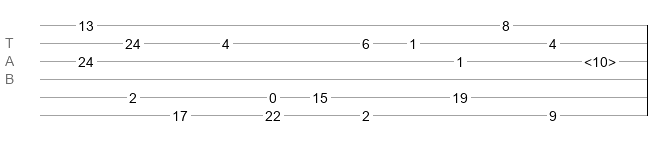0: (269, 90, 277, 100)
1: (409, 36, 417, 46), (456, 54, 464, 64)
13: (78, 18, 94, 28)
15: (312, 90, 328, 100)
17: (172, 108, 188, 118)
19: (452, 90, 468, 100)
2: (129, 90, 137, 100), (362, 108, 370, 118)
22: (265, 108, 281, 118)
24: (78, 54, 94, 64), (125, 36, 141, 46)
4: (222, 36, 230, 46), (549, 36, 557, 46)
6: (362, 36, 370, 46)
8: (502, 18, 510, 28)
9: (549, 108, 557, 118)
harmonic: (584, 54, 616, 64)
